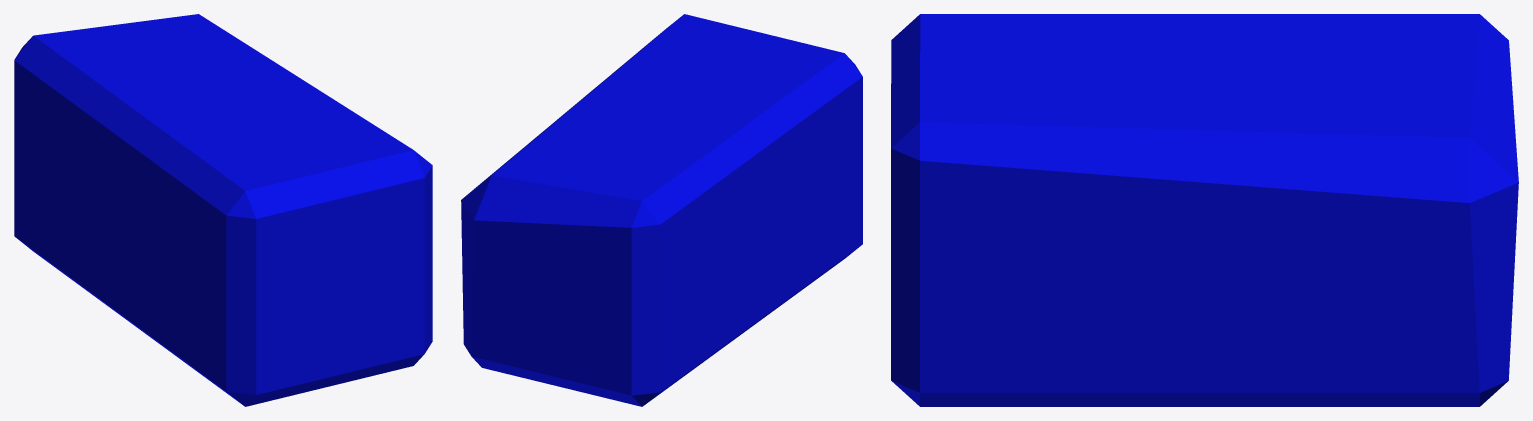
Rendered from SM_Small_QuarryStone4.fbx.
The picture shows the model from 3 angles, left to right: view 1: azimuth 30°, elevation 25°; view 2: azimuth 150°, elevation 25°; view 3: azimuth 270°, elevation 25°; orthographic projection. The views are drawn at different scales.
Parts seen in each view (by area): view 1: SM_Small_QuarryStone4; view 2: SM_Small_QuarryStone4; view 3: SM_Small_QuarryStone4.
Boxes of the visible parts, bbox=[...] form: SM_Small_QuarryStone4: bbox=[14, 14, 432, 406]; SM_Small_QuarryStone4: bbox=[461, 14, 862, 406]; SM_Small_QuarryStone4: bbox=[891, 14, 1518, 406].
Size of the model in its own units: 35.66 by 34.52 by 69.
